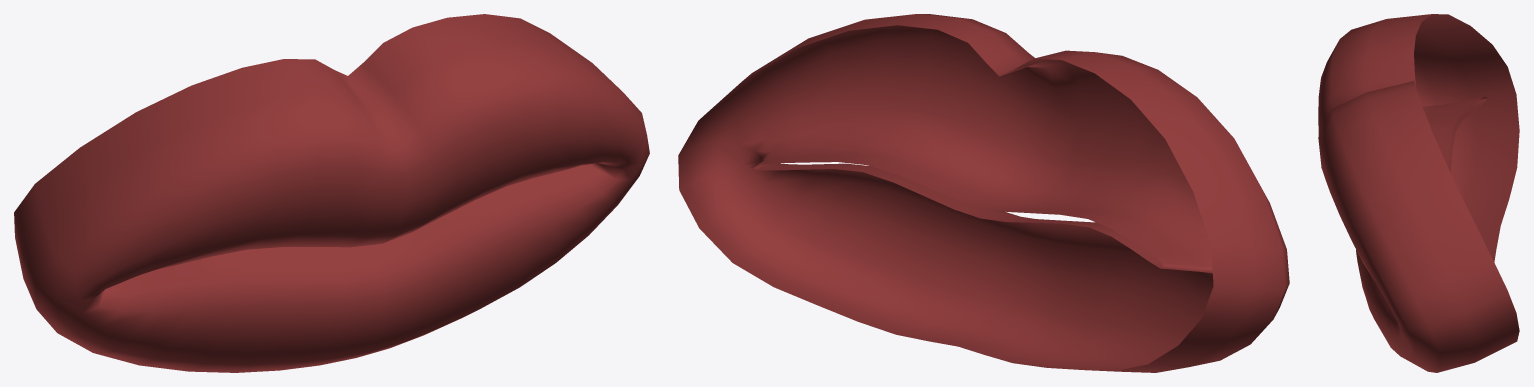
The model's file is Mouth02.fbx.
3 renders of one model, left to right at view 1: azimuth 30°, elevation 25°; view 2: azimuth 150°, elevation 25°; view 3: azimuth 270°, elevation 25°, orthographic. The views are drawn at different scales.
Visible parts, largest first — view 1: Mouth3; view 2: Mouth3; view 3: Mouth3.
Boxes of the visible parts, x1=… form: Mouth3: x1=14, y1=14, x2=649, y2=372; Mouth3: x1=678, y1=14, x2=1289, y2=372; Mouth3: x1=1318, y1=14, x2=1519, y2=372.
Size of the model in its own units: 4.19 by 2.03 by 1.46.
